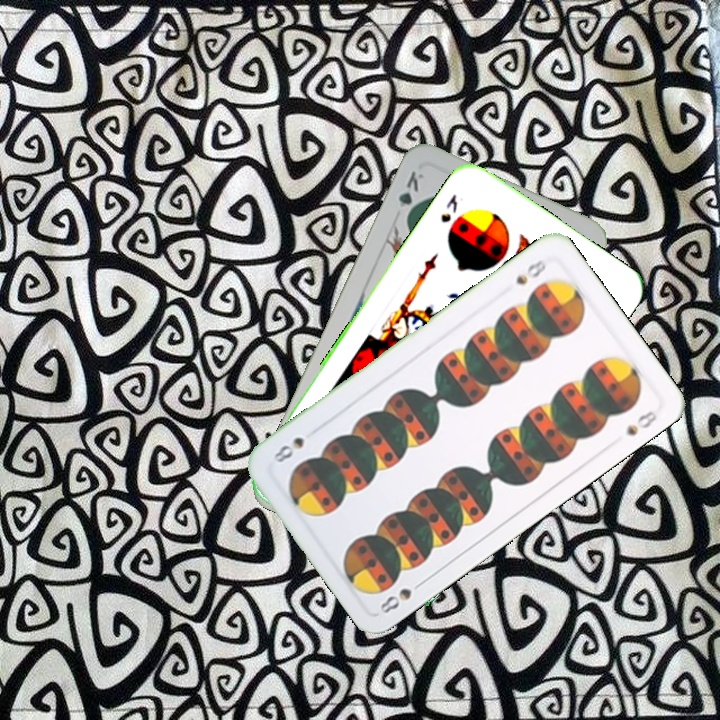GK: (394, 166, 427, 224)
S8: (376, 576, 428, 616), (511, 253, 551, 288)
SK: (436, 190, 461, 226)
